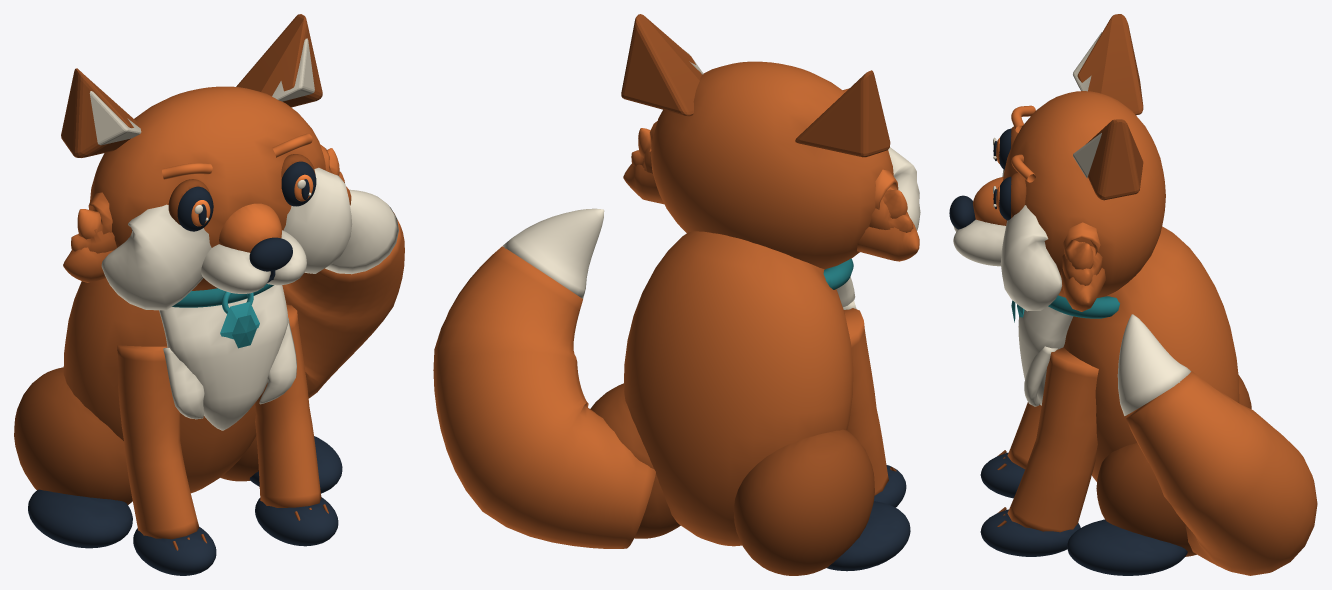
3 renders of one model, left to right at view 1: azimuth 30°, elevation 25°; view 2: azimuth 150°, elevation 25°; view 3: azimuth 270°, elevation 25°, orthographic. The views are drawn at different scales.
Visible parts, largest first — view 1: Pelagem cobre · corpo, Pelagem creme · focinho, Pelagem cobre · corpo__sombra, Olhos e nariz · olhos__patas, Pelagem cobre · corpo__mechas, Olhos e nariz · olhos, Pelagem creme · focinho__sombra, Couro e ornamentos · colar, Couro e ornamentos · colar__metal, Pelagem cobre · corpo__iris; view 2: Pelagem cobre · corpo, Pelagem cobre · corpo__sombra, Pelagem creme · focinho, Olhos e nariz · olhos__patas, Pelagem cobre · corpo__mechas; view 3: Pelagem cobre · corpo, Pelagem cobre · corpo__sombra, Pelagem creme · focinho, Olhos e nariz · olhos__patas, Pelagem cobre · corpo__mechas, Olhos e nariz · olhos, Couro e ornamentos · colar, Pelagem creme · focinho__sombra.
Boxes of the visible parts, <box> form: Pelagem cobre · corpo: <box>63,86,404,539</box>; Pelagem creme · focinho: <box>101,167,398,430</box>; Pelagem cobre · corpo__sombra: <box>14,14,328,550</box>; Olhos e nariz · olhos__patas: <box>28,270,342,575</box>; Pelagem cobre · corpo__mechas: <box>77,133,339,252</box>; Olhos e nariz · olhos: <box>177,161,316,271</box>; Pelagem creme · focinho__sombra: <box>89,38,314,145</box>; Couro e ornamentos · colar: <box>172,284,273,348</box>; Couro e ornamentos · colar__metal: <box>220,291,259,339</box>; Pelagem cobre · corpo__iris: <box>191,174,313,226</box>; Pelagem cobre · corpo: <box>433,61,919,548</box>; Pelagem cobre · corpo__sombra: <box>590,14,896,575</box>; Pelagem creme · focinho: <box>503,147,920,309</box>; Olhos e nariz · olhos__patas: <box>827,465,910,571</box>; Pelagem cobre · corpo__mechas: <box>638,88,907,218</box>; Pelagem cobre · corpo: <box>1003,91,1317,575</box>; Pelagem cobre · corpo__sombra: <box>997,14,1251,556</box>; Pelagem creme · focinho: <box>953,169,1191,415</box>; Olhos e nariz · olhos__patas: <box>980,452,1187,575</box>; Pelagem cobre · corpo__mechas: <box>973,105,1100,269</box>; Olhos e nariz · olhos: <box>949,128,1011,229</box>; Couro e ornamentos · colar: <box>1011,295,1119,322</box>; Pelagem creme · focinho__sombra: <box>1073,32,1101,178</box>.
Bounding box in the file's own units: 2.1 × 2.39 × 1.75.
